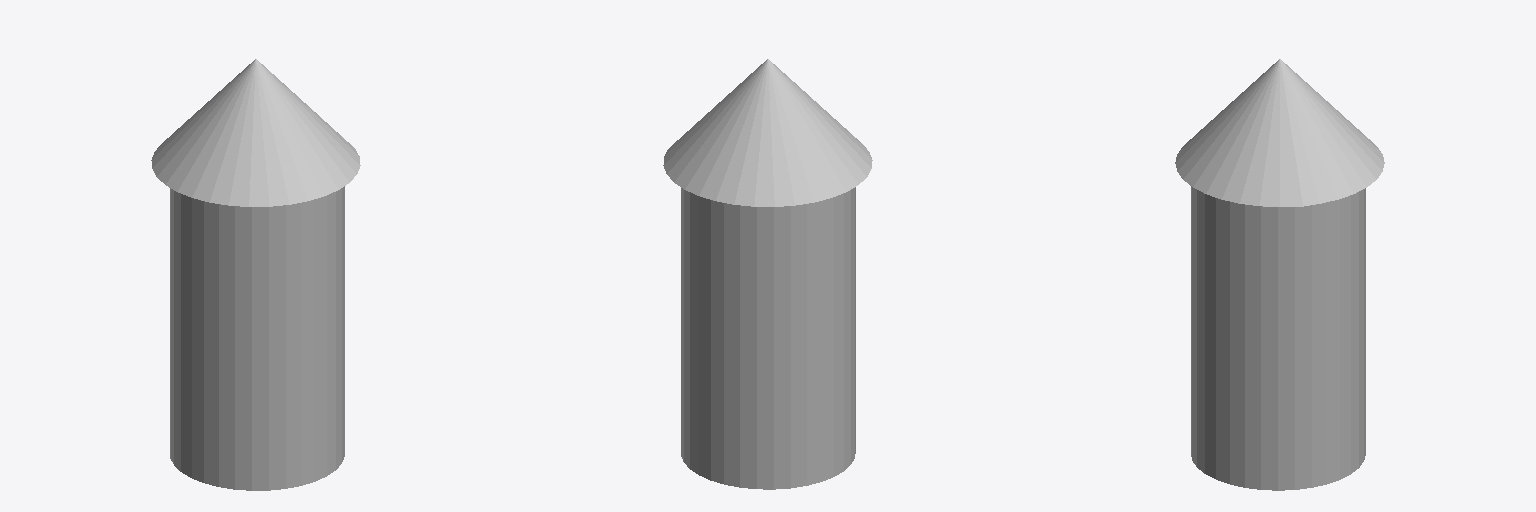
The model's file is castle.obj.
3 views of the same model, side by side, from view 1: azimuth 30°, elevation 25°; view 2: azimuth 150°, elevation 25°; view 3: azimuth 270°, elevation 25° (orthographic).
Visible parts, largest first — view 1: Cylinder, Cone; view 2: Cylinder, Cone; view 3: Cylinder, Cone.
Boxes of the visible parts, x1,y1,x2,y2 form: Cylinder: [170, 186, 344, 490]; Cone: [151, 59, 360, 206]; Cylinder: [681, 187, 855, 489]; Cone: [663, 59, 872, 206]; Cylinder: [1191, 186, 1365, 490]; Cone: [1175, 59, 1384, 206].
Bounding box in the file's own units: 9.18 × 19.09 × 9.18.